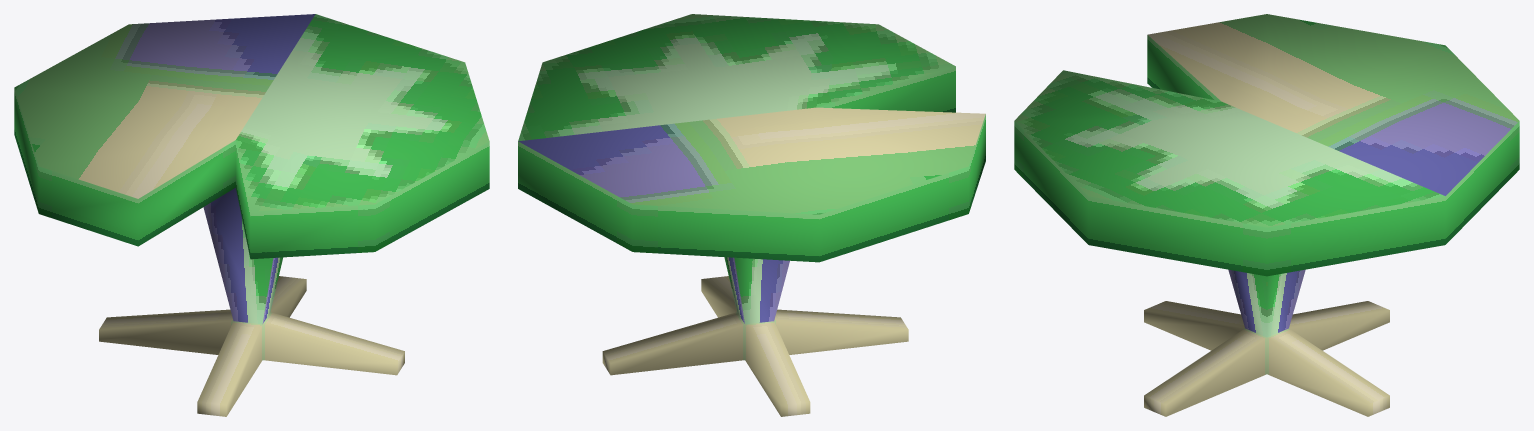
Rendered from int_flg_tableS.dae.
3 views of the same model, side by side, from view 1: azimuth 30°, elevation 25°; view 2: azimuth 150°, elevation 25°; view 3: azimuth 270°, elevation 25° (orthographic). The views are drawn at different scales.
Parts seen in each view (by area): view 1: int_flg_tableS; view 2: int_flg_tableS; view 3: int_flg_tableS.
Boxes of the visible parts, x1=… form: int_flg_tableS: x1=14, y1=14, x2=489, y2=416; int_flg_tableS: x1=518, y1=14, x2=985, y2=416; int_flg_tableS: x1=1014, y1=14, x2=1519, y2=416.
Bounding box in the file's own units: 30 × 16 × 30.
1 material, 1 textured.
